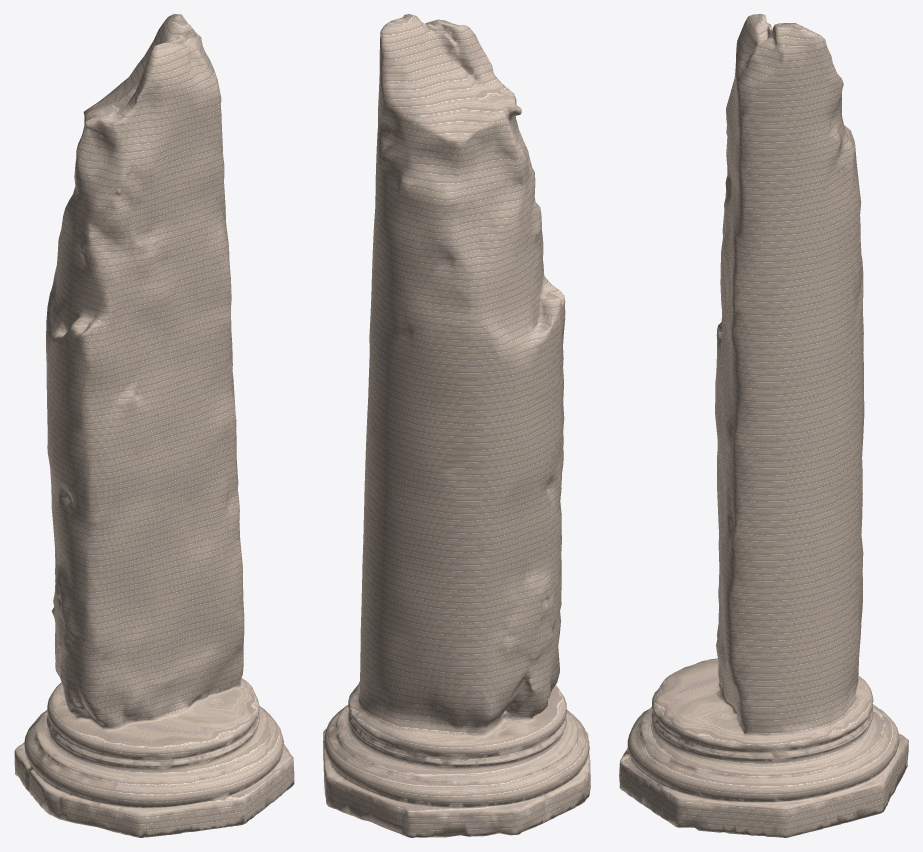
File: columnD.fbx
The picture shows the model from 3 angles, left to right: view 1: azimuth 30°, elevation 25°; view 2: azimuth 150°, elevation 25°; view 3: azimuth 270°, elevation 25°; orthographic projection. The views are drawn at different scales.
Parts seen in each view (by area): view 1: Aset_stone_carved_L_tk4tfgzfa_LOD0; view 2: Aset_stone_carved_L_tk4tfgzfa_LOD0; view 3: Aset_stone_carved_L_tk4tfgzfa_LOD0.
Boxes of the visible parts, x1,y1,x2,y2 form: Aset_stone_carved_L_tk4tfgzfa_LOD0: (14,14,294,837); Aset_stone_carved_L_tk4tfgzfa_LOD0: (323,14,590,837); Aset_stone_carved_L_tk4tfgzfa_LOD0: (619,14,908,837).
Bounding box in the file's own units: 78.46 × 237 × 80.48.
